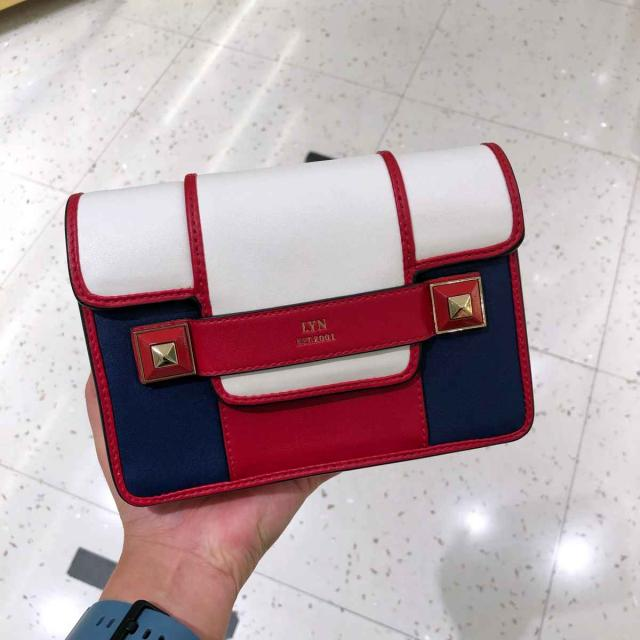Handbag: (61, 139, 534, 509)
